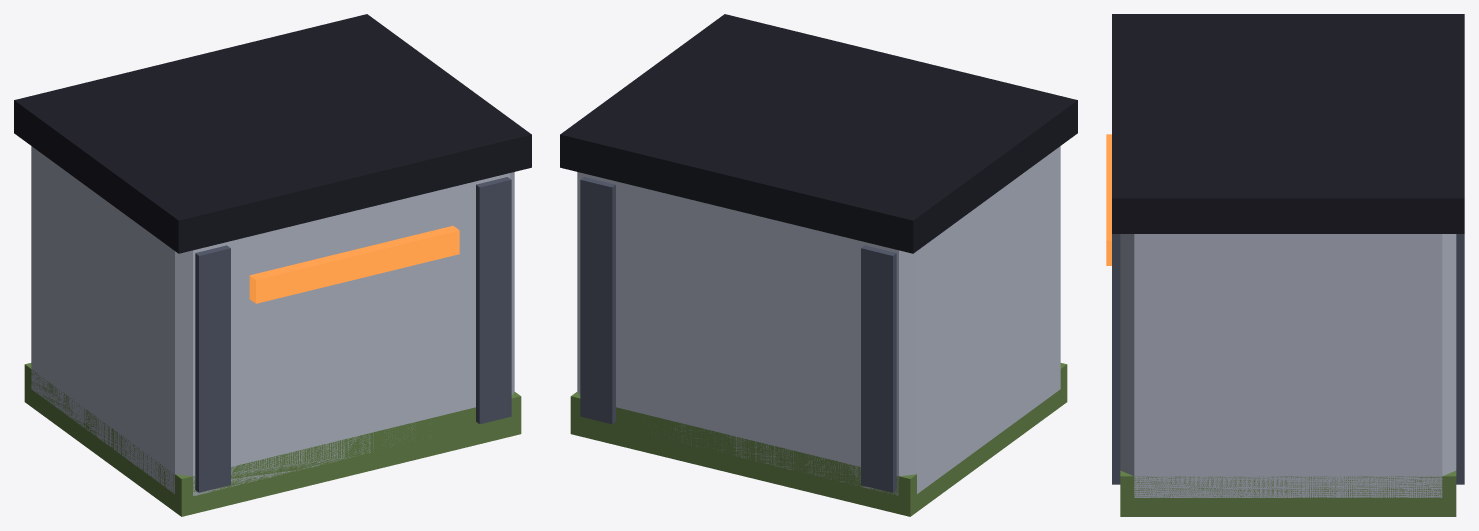
File: jungle_crate.glb
3 renders of one model, left to right at view 1: azimuth 30°, elevation 25°; view 2: azimuth 150°, elevation 25°; view 3: azimuth 270°, elevation 25°, orthographic. The views are drawn at different scales.
Parts seen in each view (by area): view 1: jungle_crate; view 2: jungle_crate; view 3: jungle_crate.
Boxes of the visible parts, x1,y1,x2,y2 form: jungle_crate: (14,14,531,516); jungle_crate: (560,14,1077,516); jungle_crate: (1106,14,1464,516).
Bounding box in the file's own units: 1.56 × 1.27 × 1.28.
